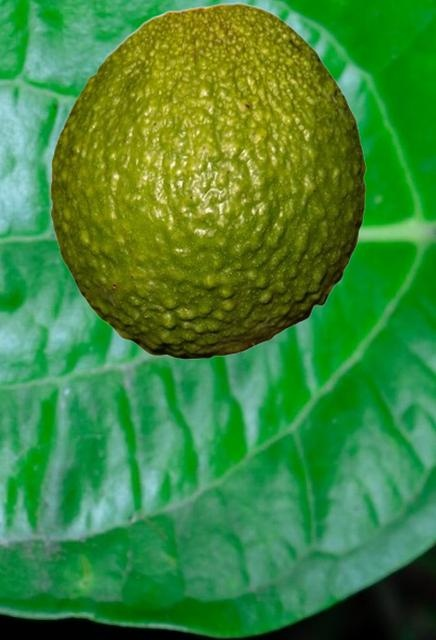avocado: (49, 2, 365, 358)
